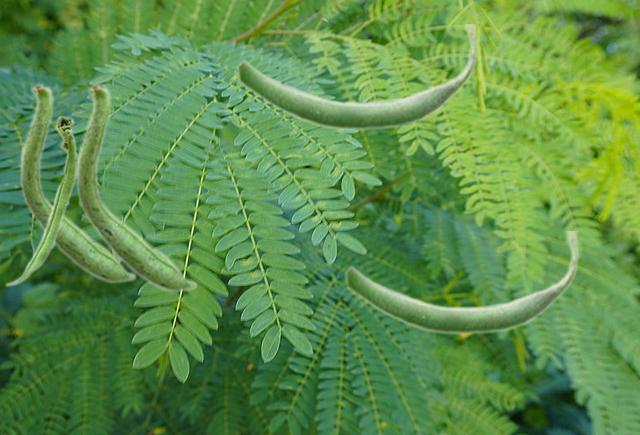french_bean: (236, 24, 477, 131), (75, 81, 197, 292), (344, 231, 578, 335), (19, 81, 136, 283), (4, 114, 76, 286)
